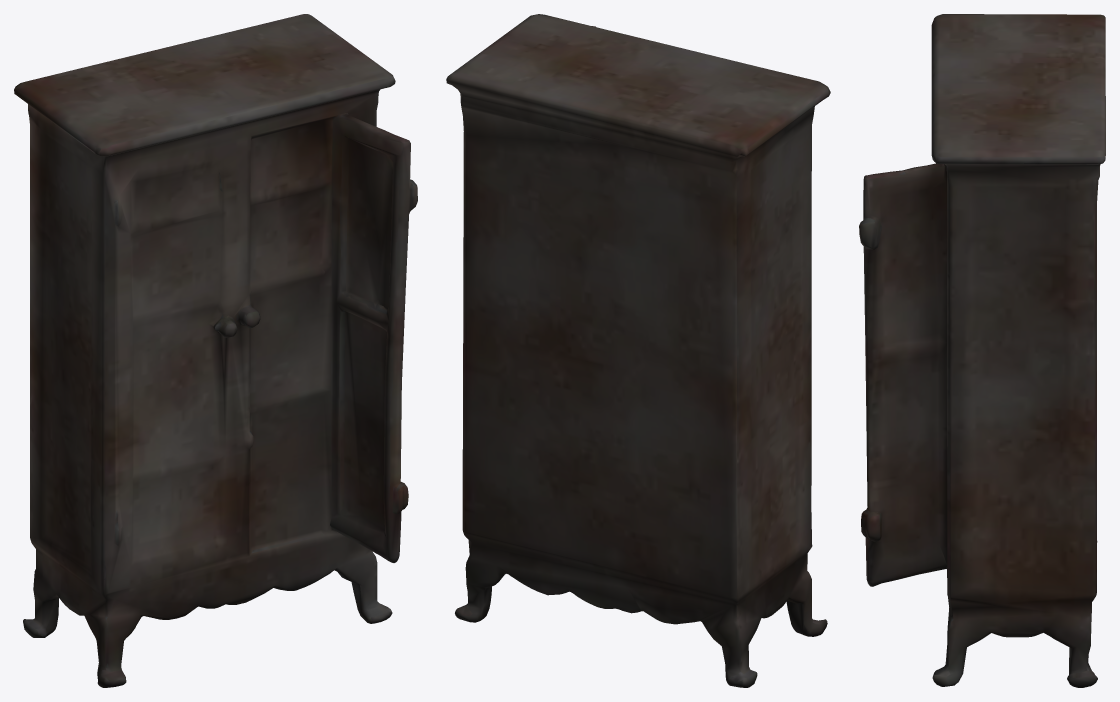
Rendered from plain-iron-medicine-cabinet-v001.glb.
3 views of the same model, side by side, from view 1: azimuth 30°, elevation 25°; view 2: azimuth 150°, elevation 25°; view 3: azimuth 270°, elevation 25° (orthographic). The views are drawn at different scales.
Visible parts, largest first — view 1: plain-iron-medicine-cabinet; view 2: plain-iron-medicine-cabinet; view 3: plain-iron-medicine-cabinet.
Part boxes in pixels (bbox=[...]): plain-iron-medicine-cabinet: bbox=[14, 14, 417, 687]; plain-iron-medicine-cabinet: bbox=[446, 14, 830, 687]; plain-iron-medicine-cabinet: bbox=[859, 14, 1105, 687].
Bounding box in the file's own units: 1.12 × 1.95 × 0.8101.
1 material, 1 textured.
